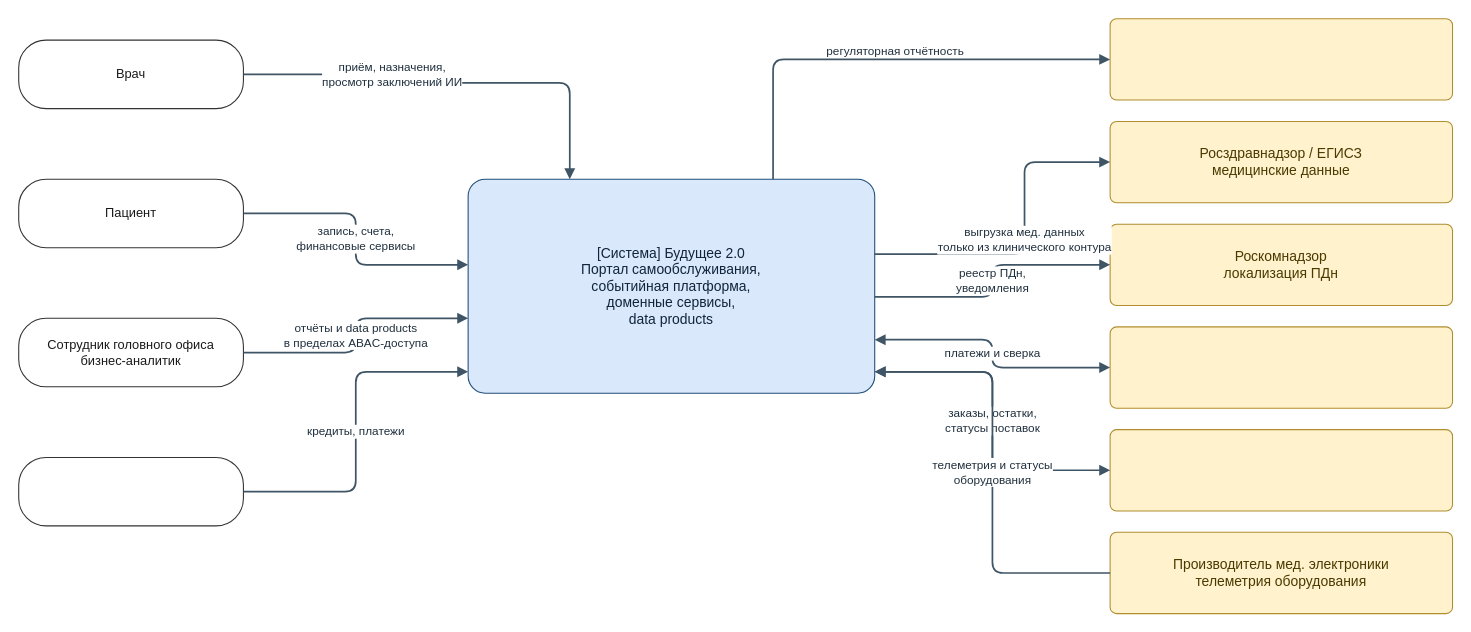
This 1471x632 diagram has some shape labels left out. Here are the shapes that lost their labels. From the top down, the box of each, then its label:
(1109, 18, 1453, 100): ЦБ РФ банковская отчётность и надзор
(1109, 326, 1453, 408): Платёжная инфраструктура НСПК / банки-корреспонденты
(1109, 429, 1453, 511): Фарма-партнёры заказы и остатки
(18, 456, 243, 526): Клиент банка
